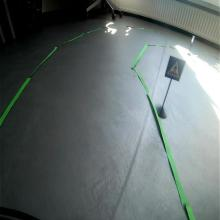crosswalk: (164, 54, 185, 82)
